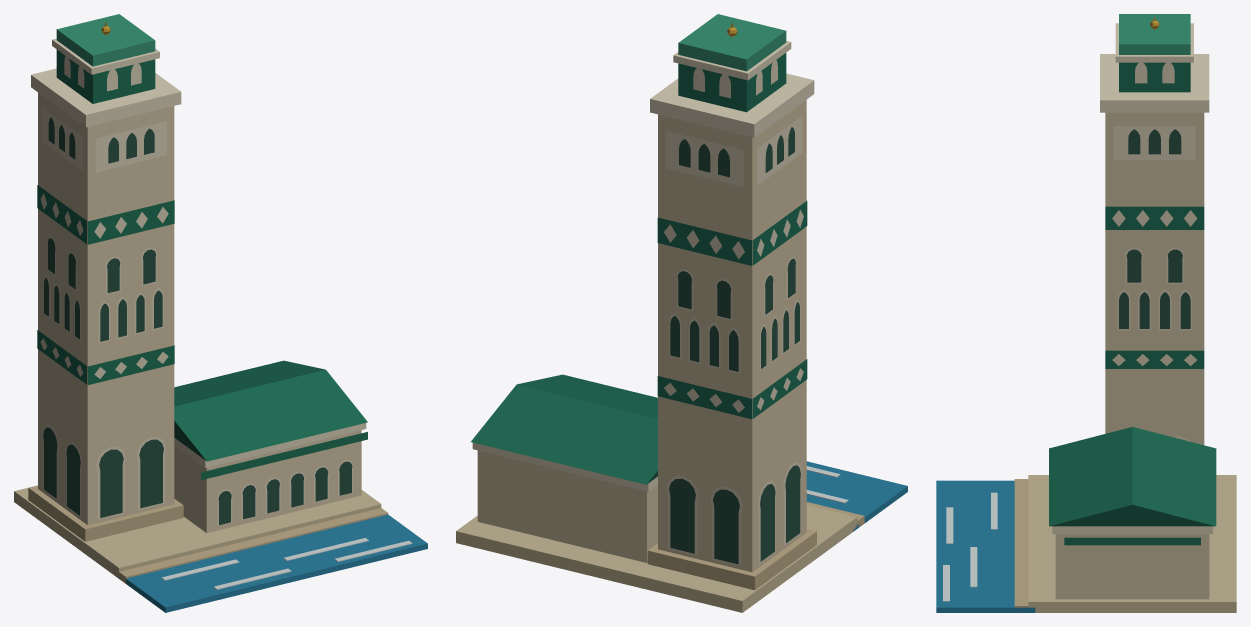
The model's file is mosquee.glb.
3 views of the same model, side by side, from view 1: azimuth 30°, elevation 25°; view 2: azimuth 150°, elevation 25°; view 3: azimuth 270°, elevation 25° (orthographic). The views are drawn at different scales.
Parts seen in each view (by area): view 1: mosquee; view 2: mosquee; view 3: mosquee.
Part boxes in pixels (left/top/right/bottom): mosquee: left=14, top=14, right=427, bottom=612; mosquee: left=456, top=14, right=907, bottom=612; mosquee: left=936, top=14, right=1236, bottom=612.
Bounding box in the file's own units: 1.76 × 3.19 × 1.76.
